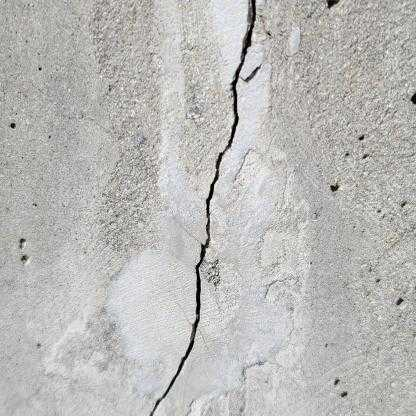crack: (149, 0, 264, 415)
